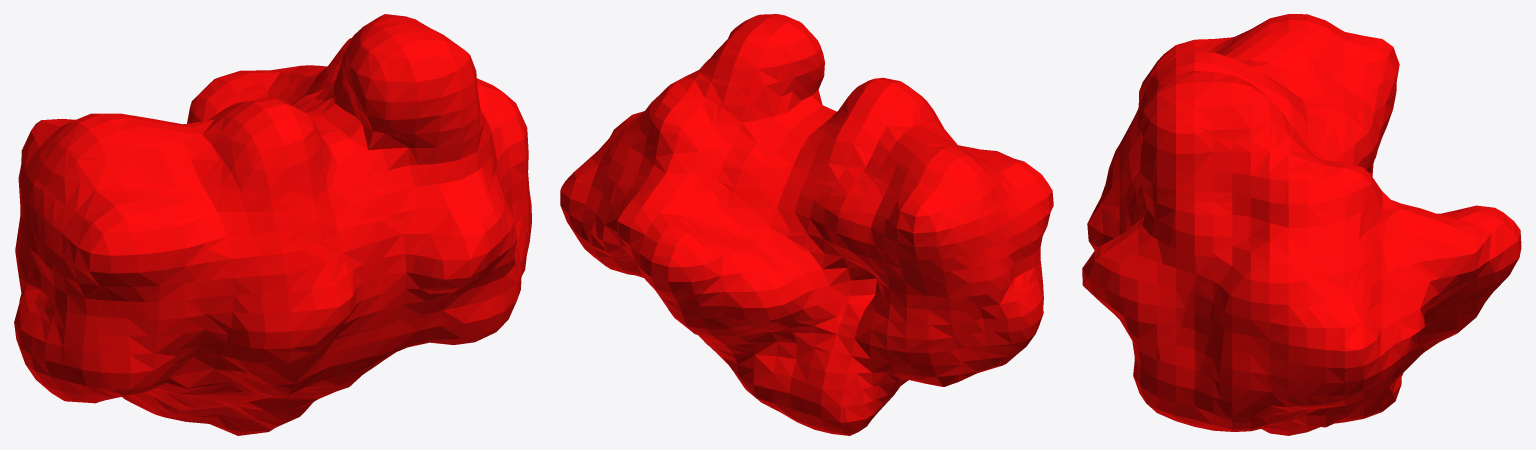
The model's file is oppD_coarse.dae.
3 renders of one model, left to right at view 1: azimuth 30°, elevation 25°; view 2: azimuth 150°, elevation 25°; view 3: azimuth 270°, elevation 25°, orthographic. The views are drawn at different scales.
Parts seen in each view (by area): view 1: oppD; view 2: oppD; view 3: oppD.
Part boxes in pixels (x1,y1,x2,y2): oppD: [14, 14, 531, 435]; oppD: [560, 14, 1053, 435]; oppD: [1082, 14, 1521, 435].
Bounding box in the file's own units: 71.79 × 53.29 × 52.28.
